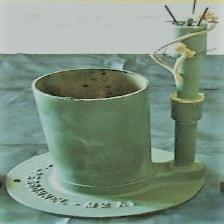M2A1: (6, 7, 224, 219)
